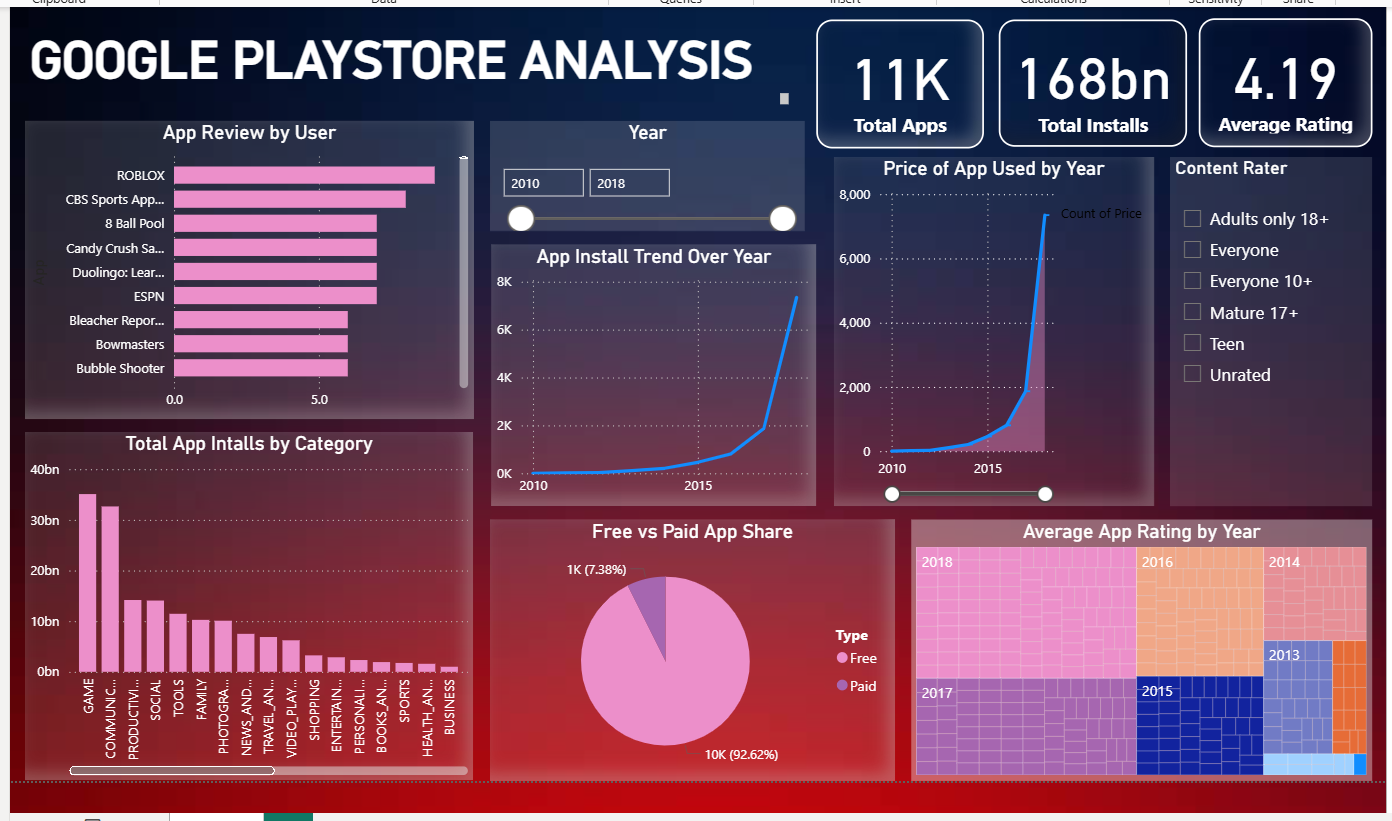

The dashboard page shown, as its layout file describes it:
{"tool":"powerbi","page":{"name":"Page 1","canvas":[1280,720],"ordinal":0},"visuals":[{"type":"columnChart","title":"Total App Intalls by Category","fields":{"Category":["Playstore_data.Category"],"Y":["Playstore_data.Total Installs"]},"box":[14.3,395.7,417.1,324.3],"z":0},{"type":"barChart","title":"App Review by User","fields":{"Category":["Playstore_data.App"],"Y":["CountNonNull(Playstore_data.Reviews)"]},"box":[14,105.8,417.4,277.9],"z":1000},{"type":"areaChart","title":"Price of App Used by Year","fields":{"Category":["Playstore_data.year"],"Y":["CountNonNull(Playstore_data.Price)"]},"box":[766.3,139.5,297.7,324.4],"z":2000},{"type":"lineChart","title":"App Install Trend Over Year","fields":{"Category":["Playstore_data.year"],"Y":["CountNonNull(Playstore_data.App)"]},"box":[447.7,220.9,302.3,243],"z":3000},{"type":"treemap","title":"Average App Rating by Year ","fields":{"Group":["Playstore_data.year"],"Values":["Playstore_data.Average Rating"],"Details":["Playstore_data.Genres"]},"box":[838.6,477.1,428.6,242.9],"z":4000},{"type":"card","fields":{"Values":["Playstore_data.Total Apps"]},"box":[750,11.6,155.8,119.8],"z":5000},{"type":"card","fields":{"Values":["Playstore_data.Total Installs"]},"box":[919.8,11.6,175.6,118.6],"z":6000},{"type":"card","fields":{"Values":["Playstore_data.Average Rating"]},"box":[1105.8,10.5,161.6,119.8],"z":7000},{"type":"slicer","title":"Content Rater","fields":{"Values":["Playstore_data.Content Rating"]},"box":[1079.1,139.5,188.4,324.4],"z":8000},{"type":"textbox","title":"GOOGLE PLAYSTORE ANALYSIS","box":[14,20.9,715.1,74.4],"z":9000},{"type":"slicer","title":"Year","fields":{"Values":["Playstore_data.year"]},"box":[446.5,105.8,293,102.3],"z":10000},{"type":"pieChart","title":"Free vs Paid App Share","fields":{"Category":["Playstore_data.Type"],"Y":["CountNonNull(Playstore_data.App)"]},"box":[446.5,476.7,376.7,243],"z":11000}]}

Visuals, with their boxes on the page's 1280x720 design canvas (x1, y1, x2, y2). These are canvas units, not pixel positions in the 1392x821 screenshot, which may show the page scaled, cropped or inside an application window:
"Total App Intalls by Category" columnChart: left=14, top=396, right=431, bottom=720
"App Review by User" barChart: left=14, top=106, right=431, bottom=384
"Price of App Used by Year" areaChart: left=766, top=140, right=1064, bottom=464
"App Install Trend Over Year" lineChart: left=448, top=221, right=750, bottom=464
"Average App Rating by Year " treemap: left=839, top=477, right=1267, bottom=720
card - Playstore_data.Total Apps: left=750, top=12, right=906, bottom=131
card - Playstore_data.Total Installs: left=920, top=12, right=1095, bottom=130
card - Playstore_data.Average Rating: left=1106, top=10, right=1267, bottom=130
"Content Rater" slicer: left=1079, top=140, right=1268, bottom=464
"GOOGLE PLAYSTORE ANALYSIS" textbox: left=14, top=21, right=729, bottom=95
"Year" slicer: left=446, top=106, right=740, bottom=208
"Free vs Paid App Share" pieChart: left=446, top=477, right=823, bottom=720
